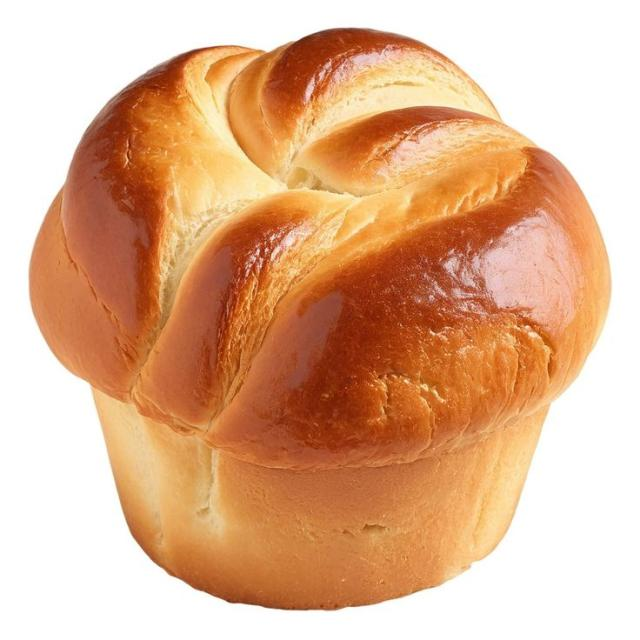bread: (31, 29, 609, 607)
